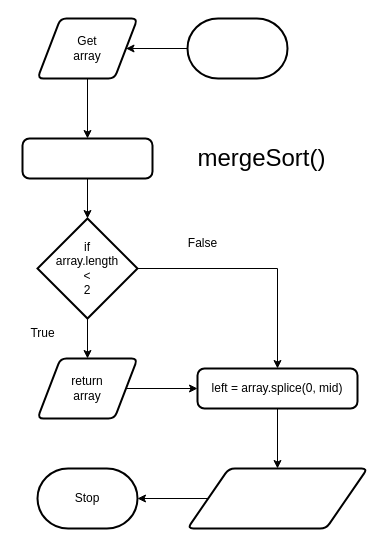
Some shapes in this 385 by 546 pixel diagram are drawn without their labels. The box of each missing label's shape, as (x1, y1, x2, y2) in pixels:
mid = array.length / 2: (21, 137, 153, 179)
return merge(mergeSort(left), mergeSort(array)): (186, 467, 368, 529)
Start: (186, 17, 288, 79)
